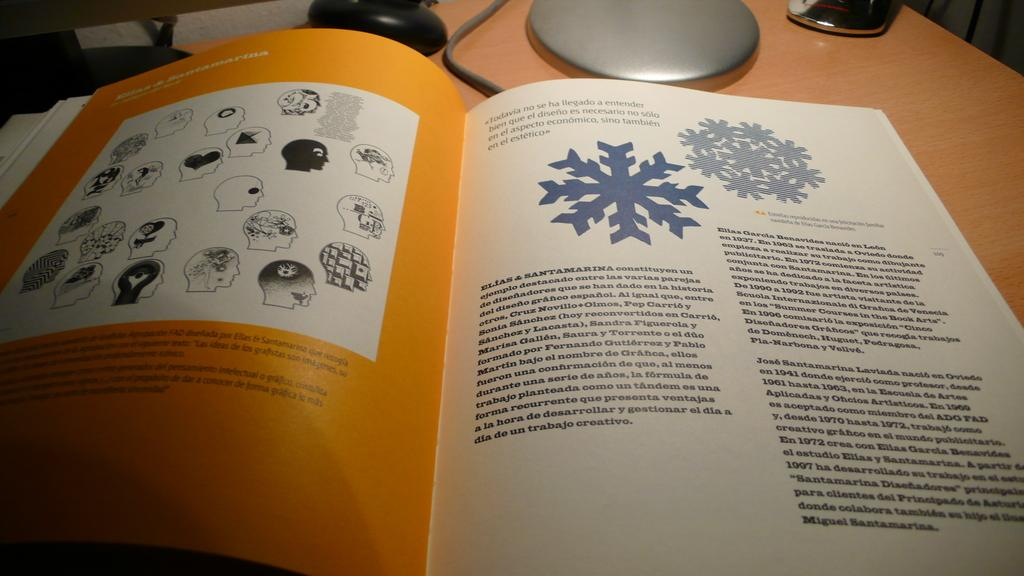Computer-mouse: (300, 0, 448, 60)
